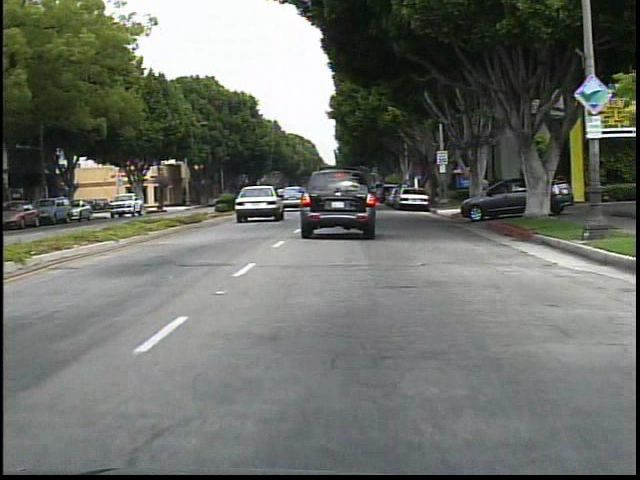person: (476, 170, 494, 209)
